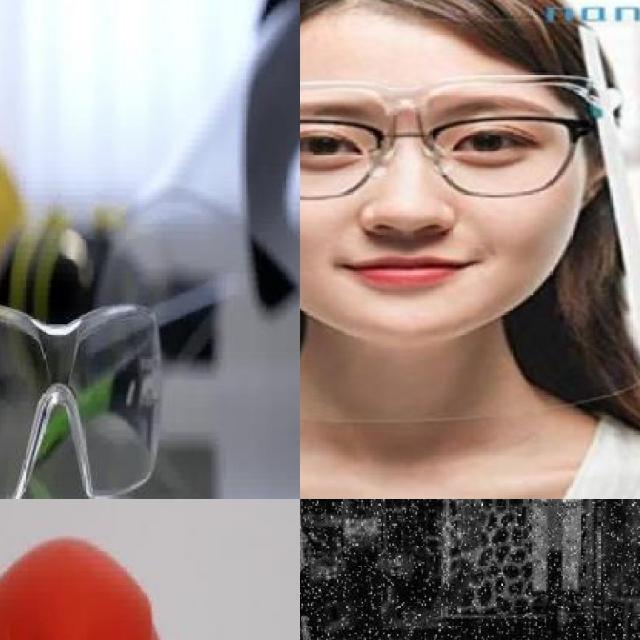apron: (441, 499, 483, 567)
